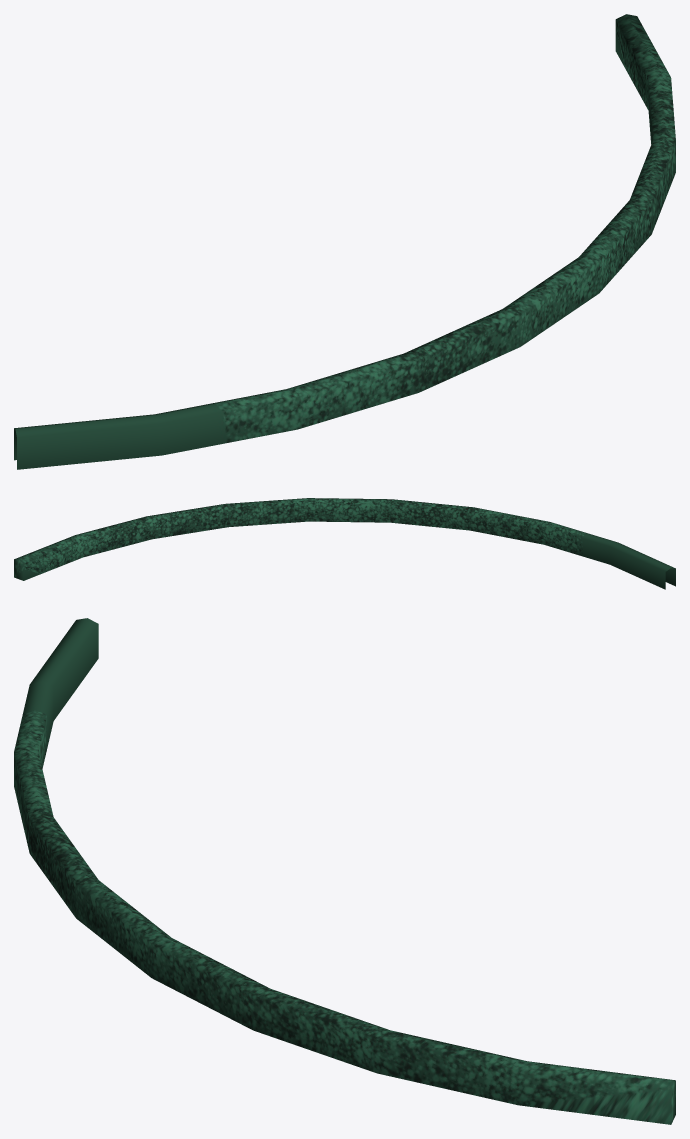
File: Ring55.fbx
3 renders of one model, top to bottom at view 1: azimuth 30°, elevation 25°; view 2: azimuth 150°, elevation 25°; view 3: azimuth 270°, elevation 25°, orthographic. The views are drawn at different scales.
Visible parts, largest first — view 1: Ring55; view 2: Ring55; view 3: Ring55.
Boxes of the visible parts, left/top/right/bottom form: Ring55: left=14, top=14, right=675, bottom=469; Ring55: left=14, top=498, right=675, bottom=589; Ring55: left=14, top=618, right=675, bottom=1124.
Bounding box in the file's own units: 10527 × 400 × 6259.
